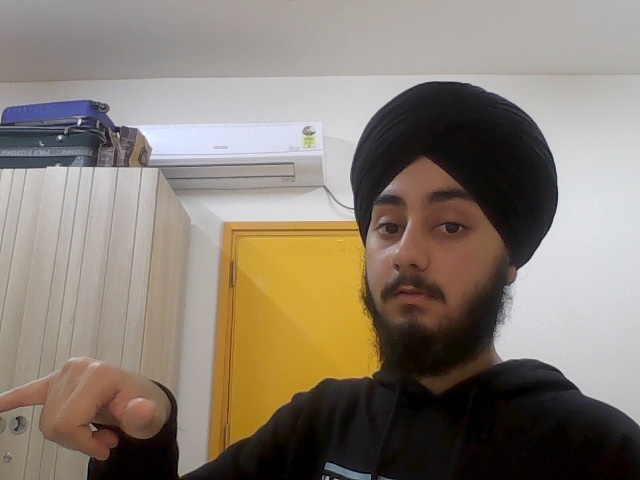Same: (1, 355, 174, 464)
